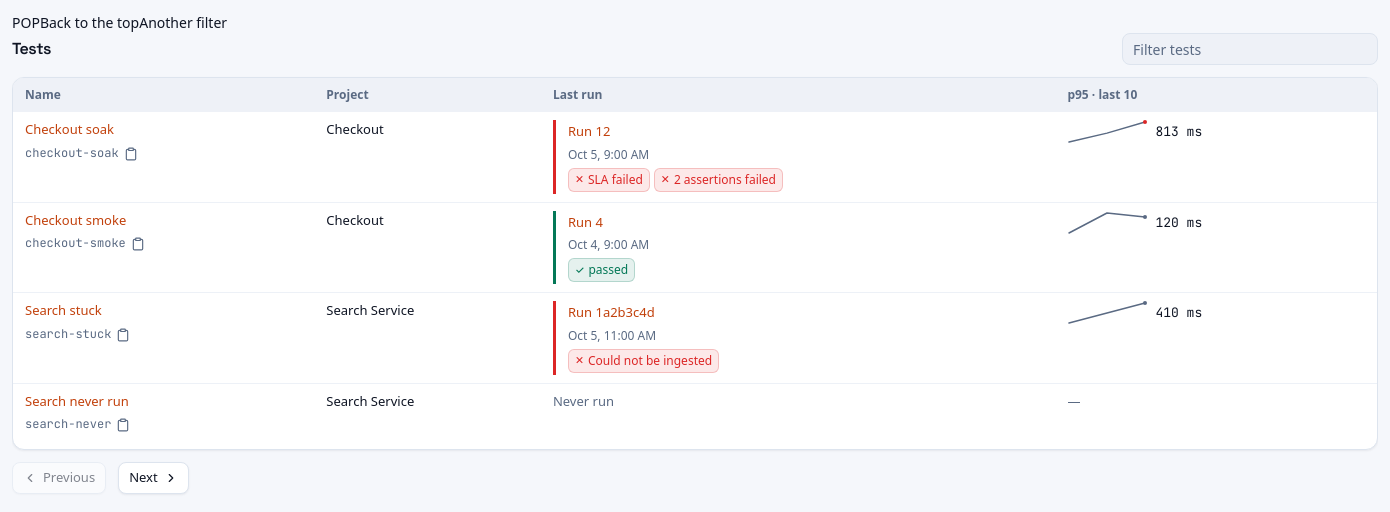
Test: HomeTests, the pager › does not resume an old page when the filter comes back to a value it had before
Click the button "Next" at (153, 478), box x1=118 y1=462 x2=189 y2=494
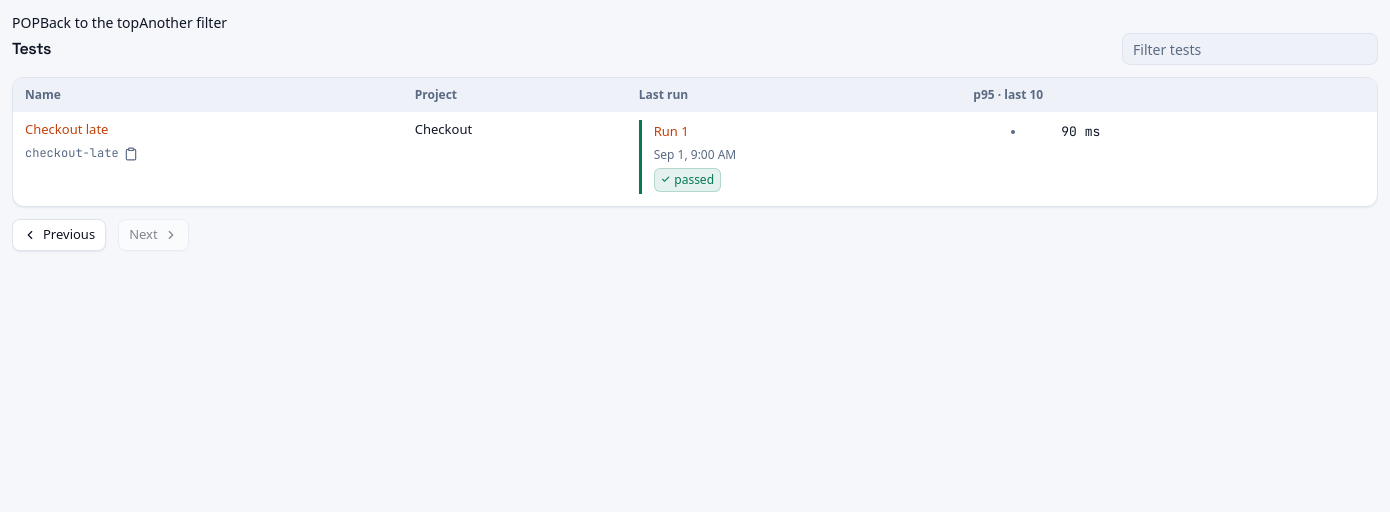
Check: the link "Checkout late" is shown, box x1=25 y1=120 x2=108 y2=140
Type "zz" into the search field labelled "Filter tests" at (1250, 49), box x1=1122 y1=33 x2=1378 y2=65
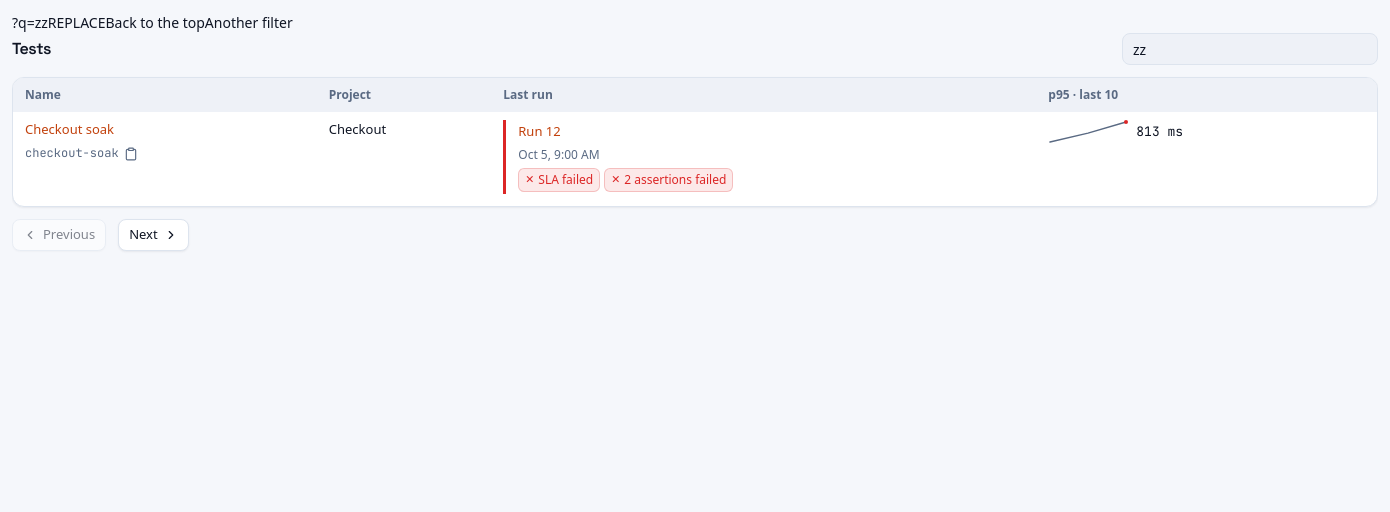
Check: the text with test id "where" reads "?q=zz", box x1=12 y1=13 x2=48 y2=32
Check: the link "Checkout late" is gone
Clear the search field named "Filter tests" at (1250, 49), box x1=1122 y1=33 x2=1378 y2=65
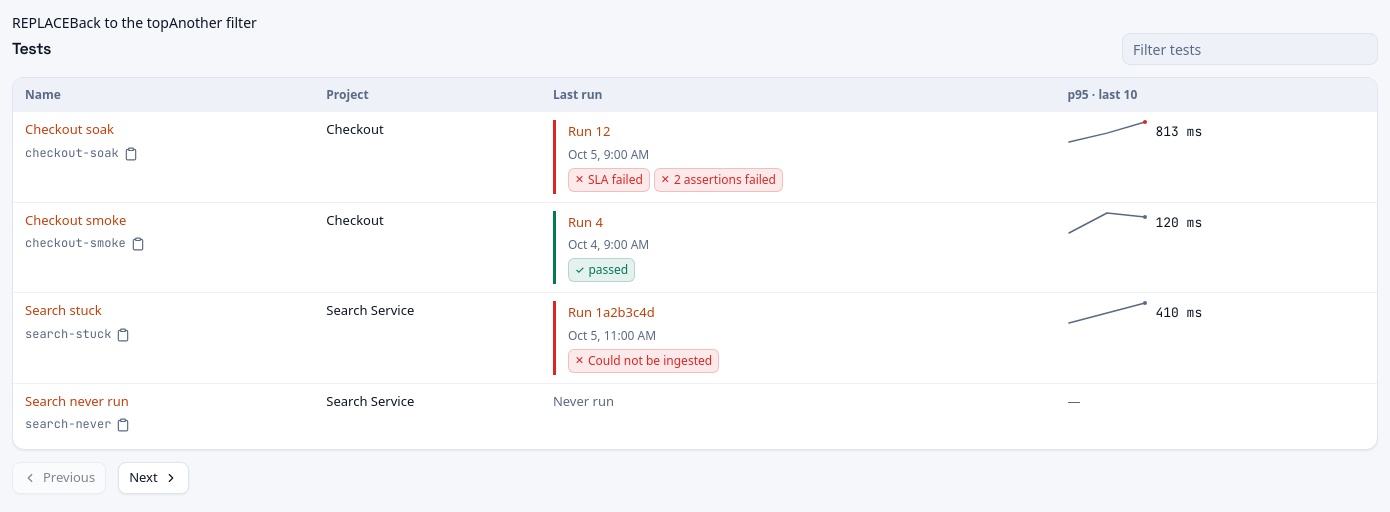
Check: the link "Checkout late" is not shown
Check: the button "Previous" is disabled, box x1=12 y1=462 x2=106 y2=494
Check: the link "Checkout smoke" is shown, box x1=25 y1=210 x2=126 y2=230
